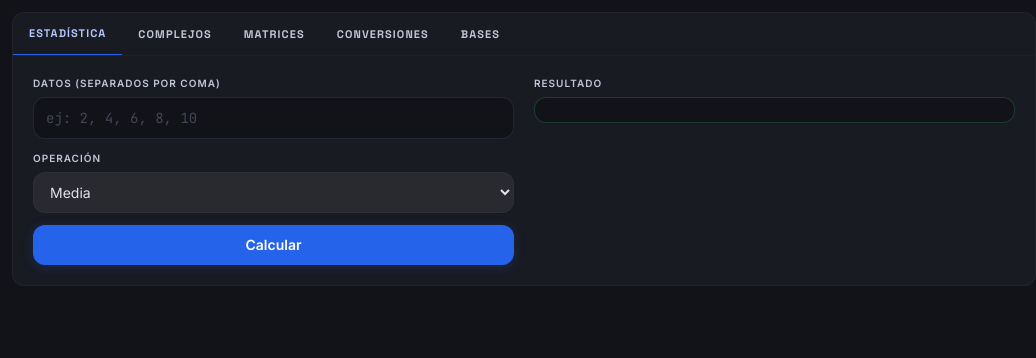
Test: AdvancedPanel — Tab Complejos › muestra inputs para z1 y z2
The width and height of the screenshot is (1036, 358).
Step 1. Click the tab with test id "tab-complex" → (175, 34), box [122,13,228,54]
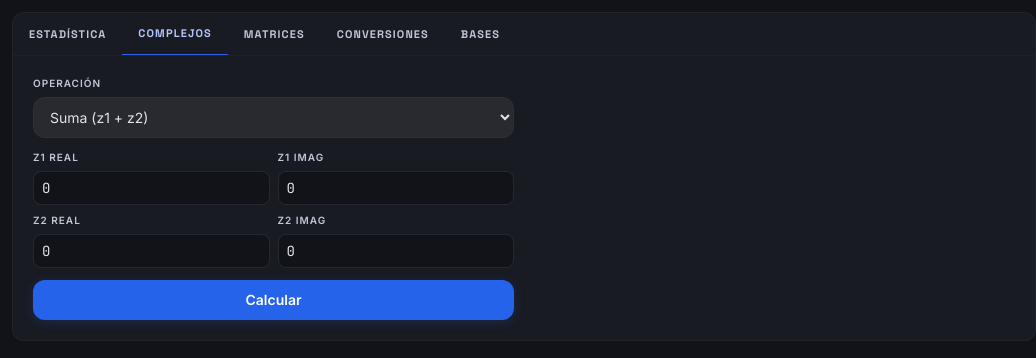
Expected: the number field with test id "complex-z1-real" is shown, [33,170,270,204]
Expected: the number field with test id "complex-z1-imag" is shown, [278,170,514,204]
Expected: the number field with test id "complex-z2-real" is shown, [33,234,270,268]
